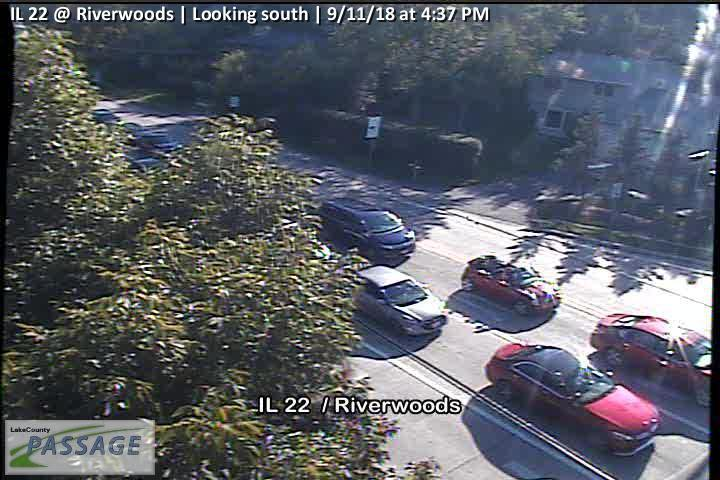SUV: (351, 265, 447, 338), (320, 198, 416, 268)
Sedan: (484, 342, 663, 457), (590, 313, 713, 407), (462, 255, 562, 315)
